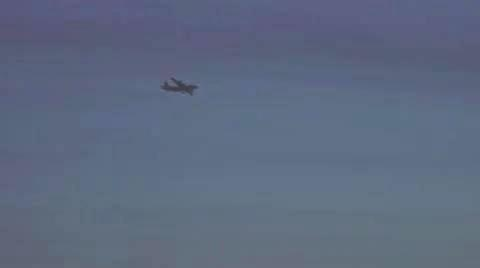Plane: (142, 70, 217, 104)
